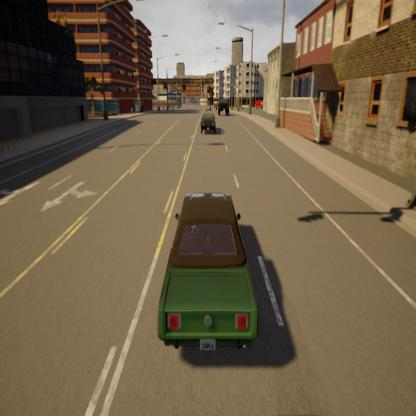Cars: (153, 157, 261, 362), (195, 103, 220, 138), (218, 89, 231, 121), (255, 94, 265, 112), (242, 96, 250, 114)
